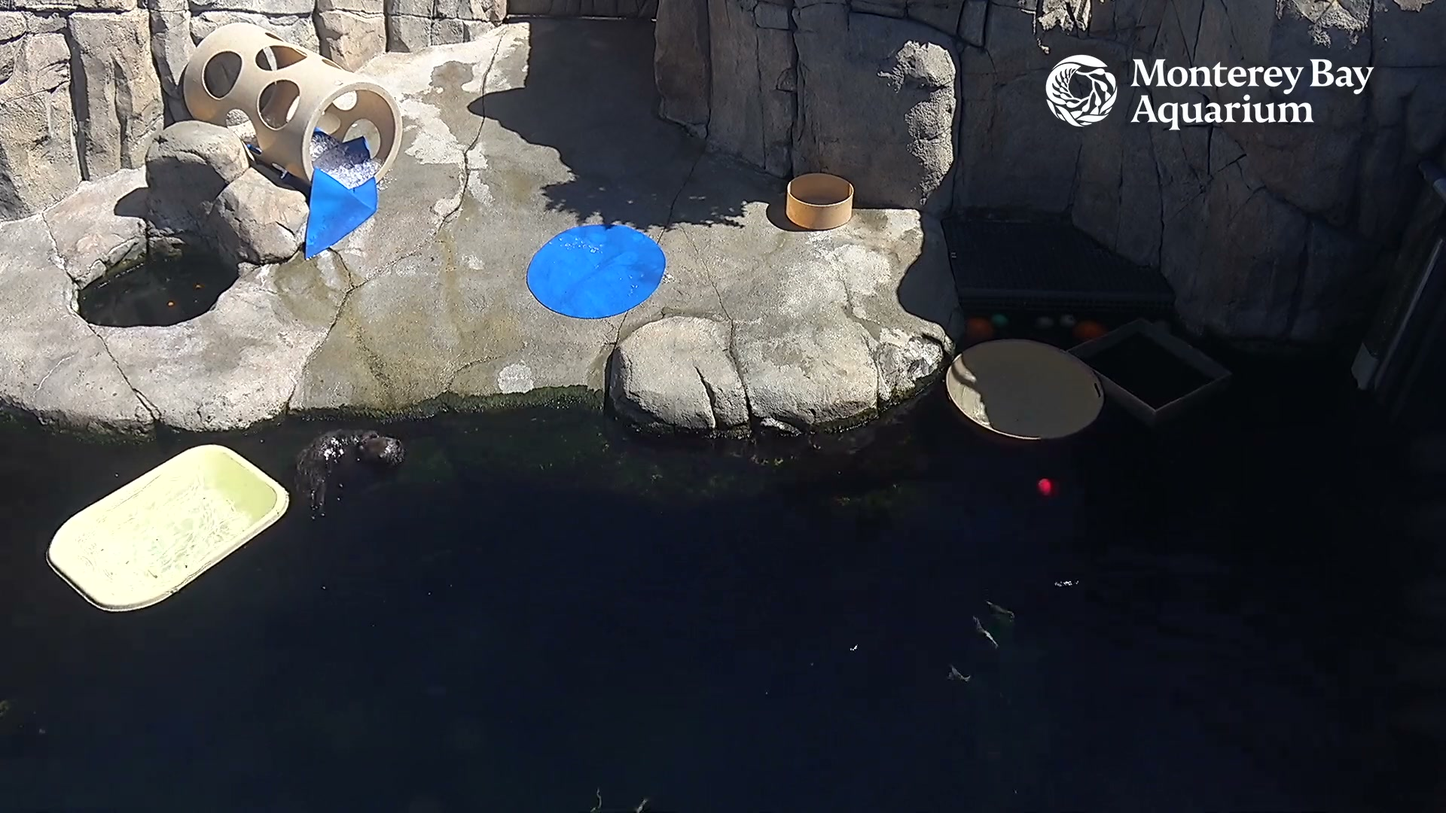Southern Sea Otter: (260, 399, 462, 548)
